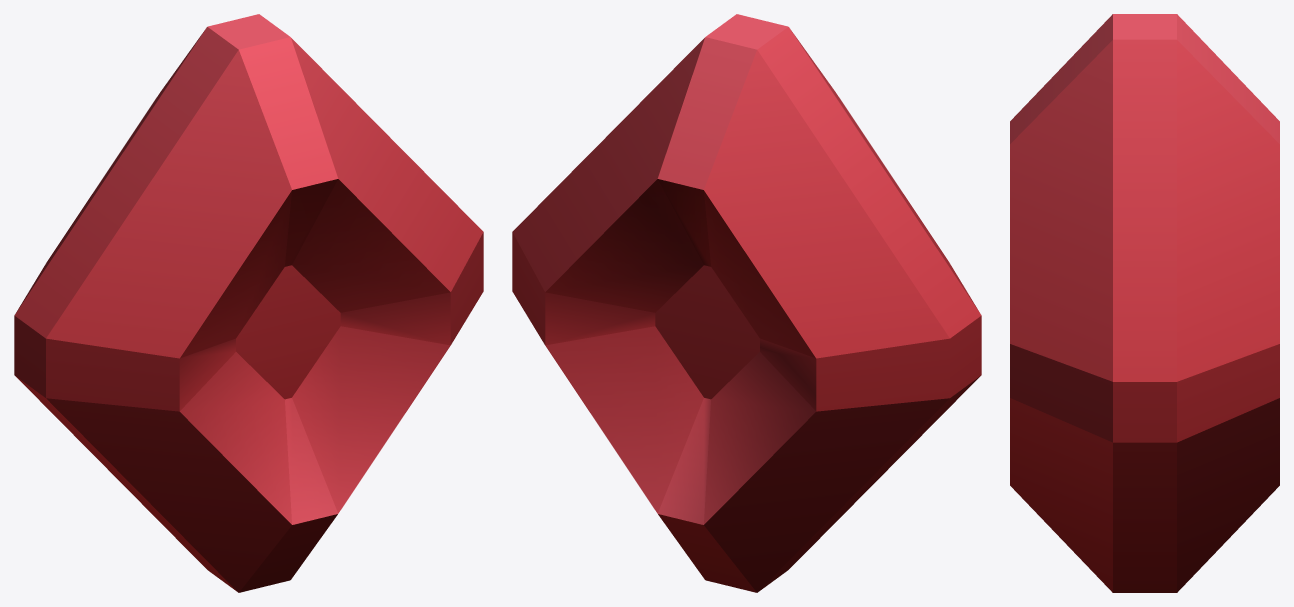
Rendered from Ruby_02.glb.
3 renders of one model, left to right at view 1: azimuth 30°, elevation 25°; view 2: azimuth 150°, elevation 25°; view 3: azimuth 270°, elevation 25°, orthographic.
Visible parts, largest first — view 1: Ruby_02; view 2: Ruby_02; view 3: Ruby_02.
Boxes of the visible parts, box(x1,y1,x2,y2) form: Ruby_02: box(14, 14, 483, 592); Ruby_02: box(512, 14, 981, 592); Ruby_02: box(1010, 14, 1279, 592).
Size of the model in its own units: 0.3495 by 0.4147 by 0.1833.
Materials: 1 (1 with a texture image).
